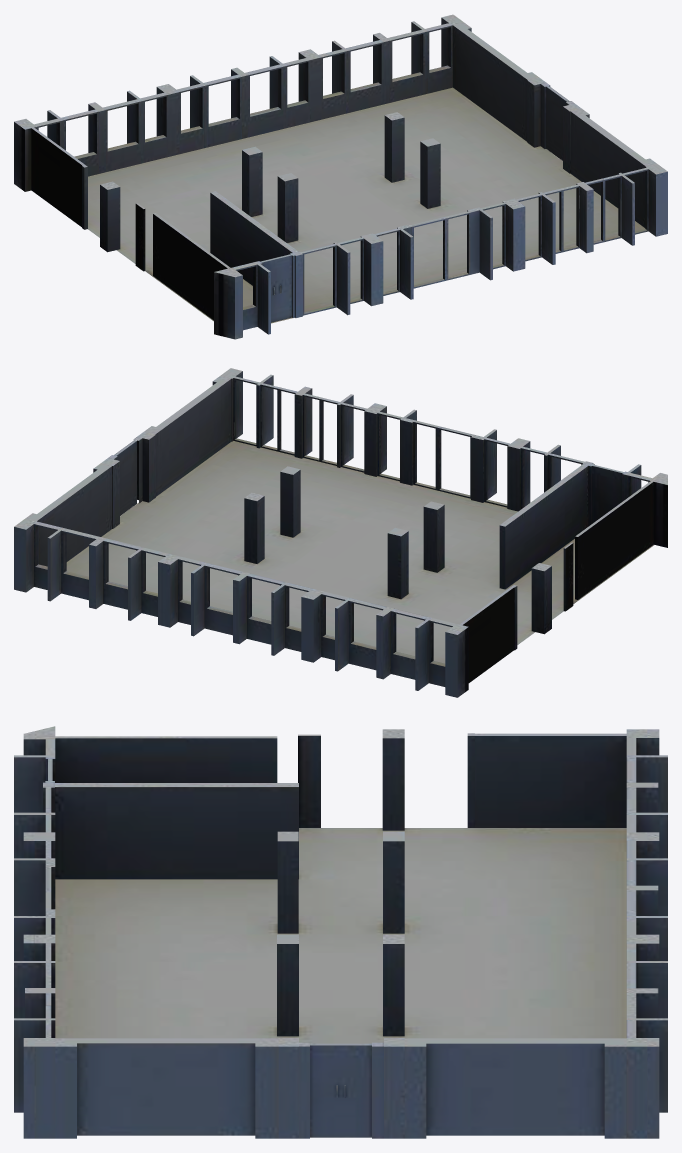
3 views of the same model, one above another, from view 1: azimuth 30°, elevation 25°; view 2: azimuth 150°, elevation 25°; view 3: azimuth 270°, elevation 25° (orthographic). The views are drawn at different scales.
Visible parts, largest first — view 1: hd_1floor_room01 (2)_0; view 2: hd_1floor_room01 (2)_0; view 3: hd_1floor_room01 (2)_0.
Part boxes in pixels (bbox=[...]): hd_1floor_room01 (2)_0: bbox=[14, 14, 667, 339]; hd_1floor_room01 (2)_0: bbox=[14, 368, 667, 697]; hd_1floor_room01 (2)_0: bbox=[14, 726, 667, 1138].
Bounding box in the file's own units: 2.68 × 0.3594 × 2.31.
1 material, 1 textured.
